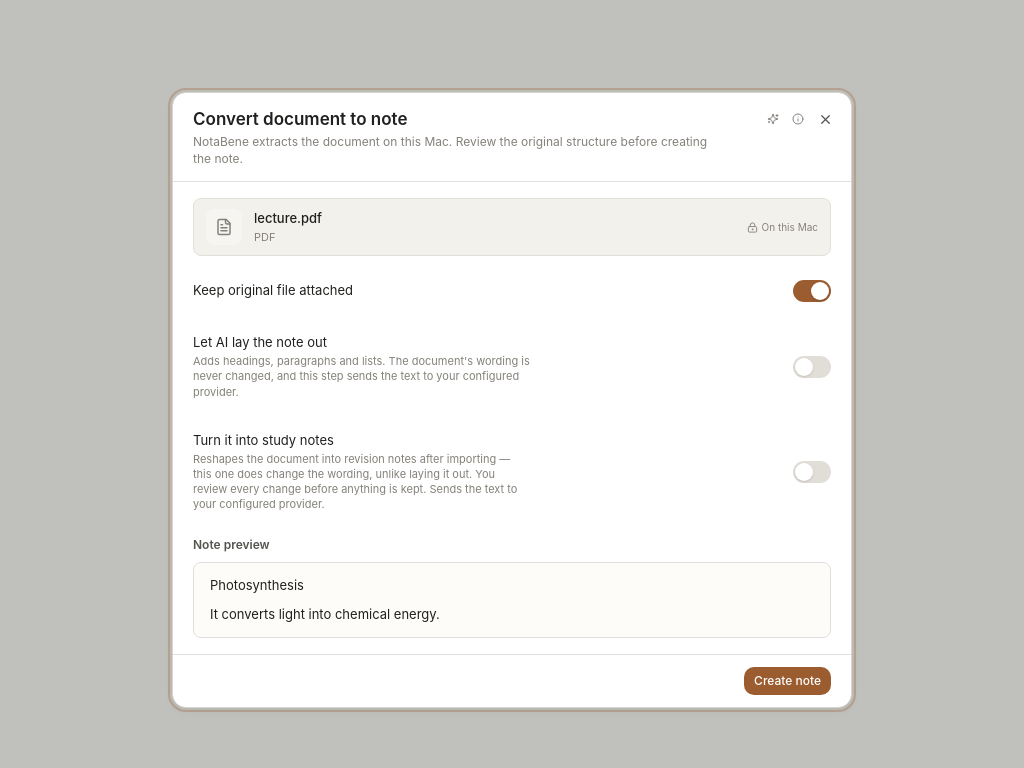
Test case: ImportDocumentDialog reformatting › keeps the original and says so when the model rewrote the text instead
This screenshot has width=1024, height=768.
Click the switch named "Let AI lay the note out". click: [812, 367]
box: [793,356,831,378]
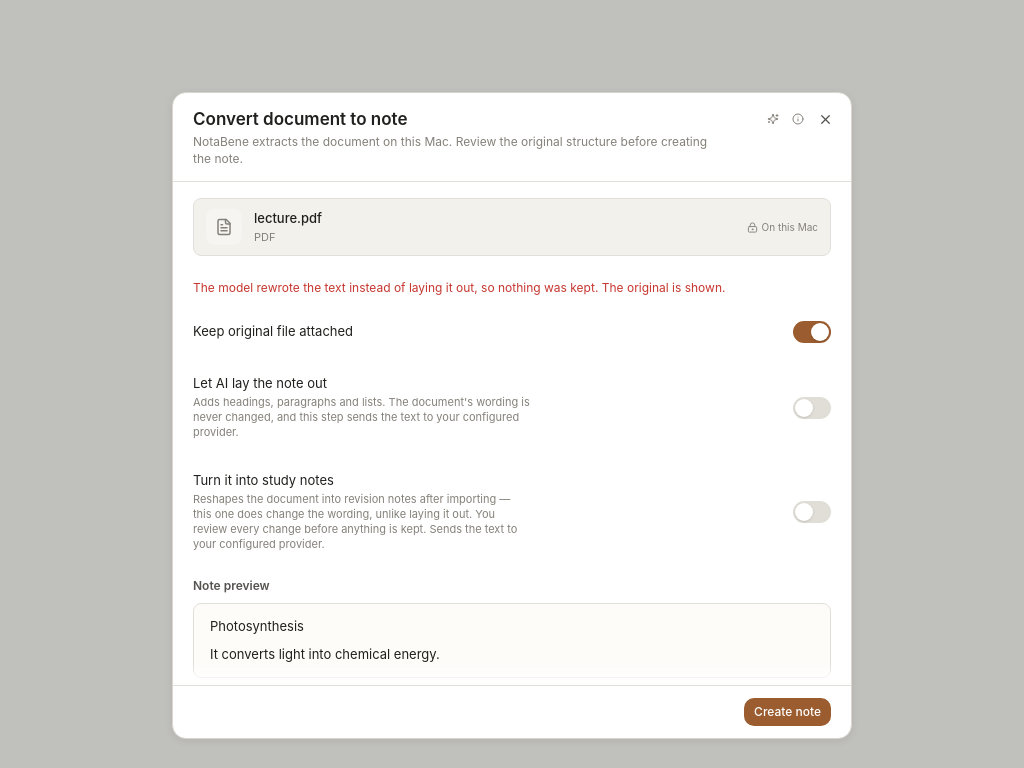
Expected: the text "The model rewrote the text instead of laying it out, so nothing was kept. The original is shown." is shown, [193,280,725,295]
